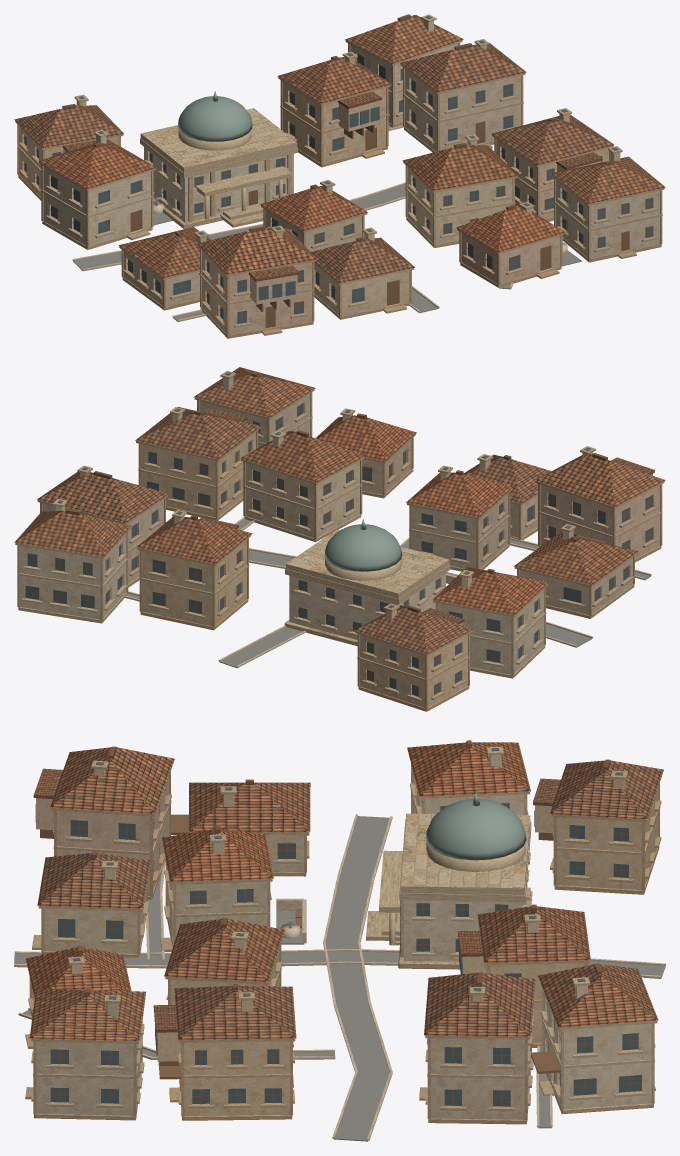
The model's file is city_orient_1.gltf.
The picture shows the model from 3 angles, top to bottom: view 1: azimuth 30°, elevation 25°; view 2: azimuth 150°, elevation 25°; view 3: azimuth 270°, elevation 25°; orthographic projection. The views are drawn at different scales.
Visible parts, largest first — view 1: city_orient_1; view 2: city_orient_1; view 3: city_orient_1.
Boxes of the visible parts, x1,y1,x2,y2 form: city_orient_1: (14,14,665,338); city_orient_1: (14,367,665,711); city_orient_1: (14,740,665,1141).
Bounding box in the file's own units: 1 × 0.2039 × 0.8483.
Materials: 5 (1 with a texture image).
